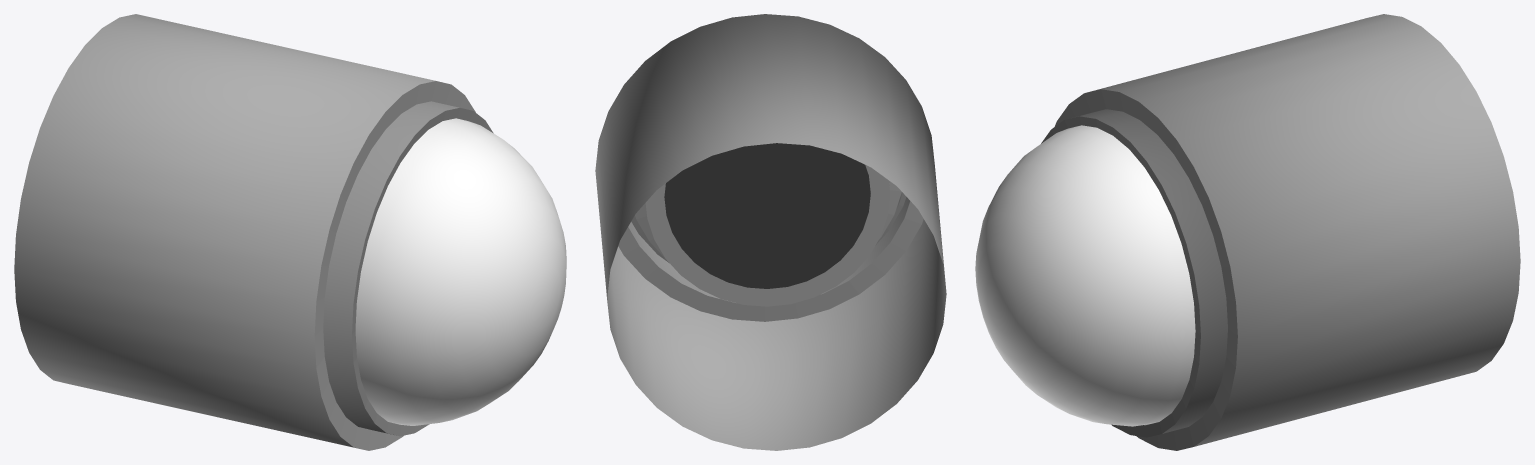
File: -Main Window-.fbx
3 renders of one model, left to right at view 1: azimuth 30°, elevation 25°; view 2: azimuth 150°, elevation 25°; view 3: azimuth 270°, elevation 25°, orthographic. The views are drawn at different scales.
Visible parts, largest first — view 1: Main_Window.Main, Main_Window.Glass; view 2: Main_Window.Main; view 3: Main_Window.Main, Main_Window.Glass.
Boxes of the visible parts, left/top/right/bottom form: Main_Window.Main: left=14, top=14, right=493, bottom=450; Main_Window.Glass: left=355, top=118, right=566, bottom=425; Main_Window.Main: left=595, top=14, right=946, bottom=450; Main_Window.Main: left=1041, top=14, right=1520, bottom=450; Main_Window.Glass: left=975, top=125, right=1195, bottom=426.
Size of the model in its own units: 1.29 by 0.9668 by 1.42.
